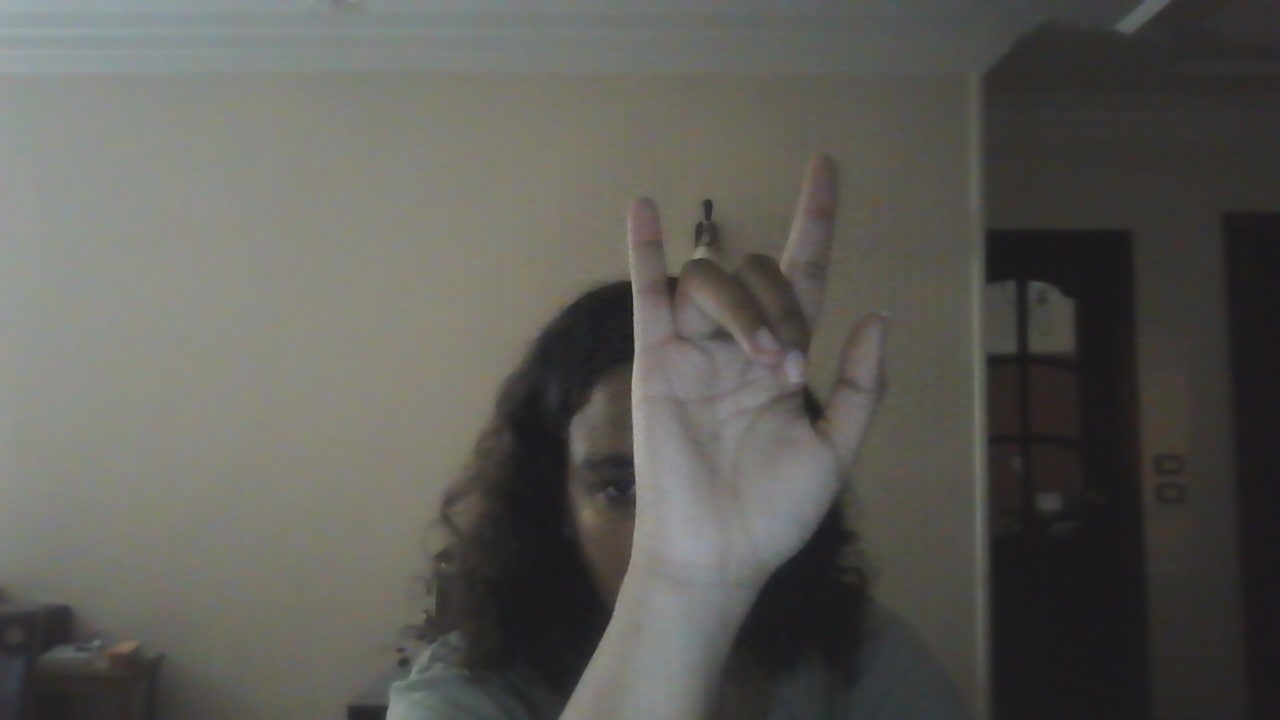love: (506, 158, 983, 596)
